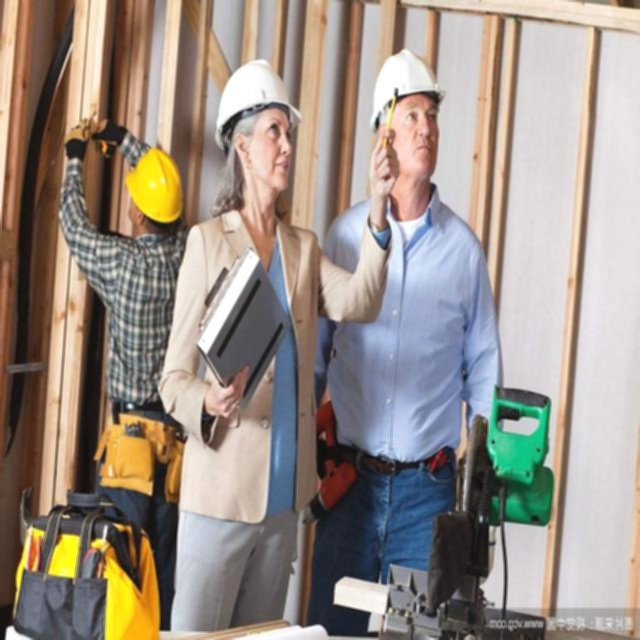Con_Casco: (226, 55, 300, 192), (376, 47, 440, 188)
